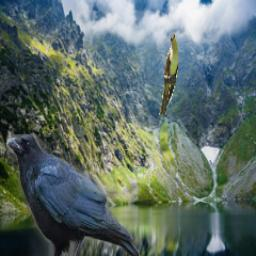Crow: (7, 135, 141, 256)
Cuckoo: (159, 33, 178, 114)
